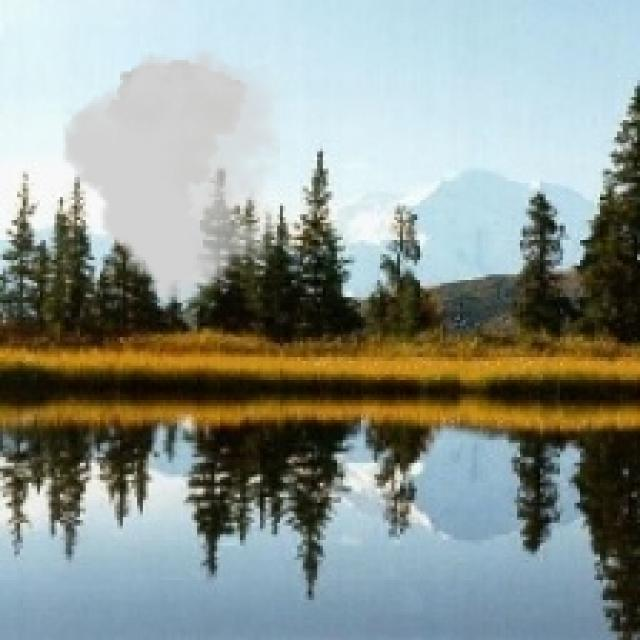smoke: (63, 48, 280, 303)
